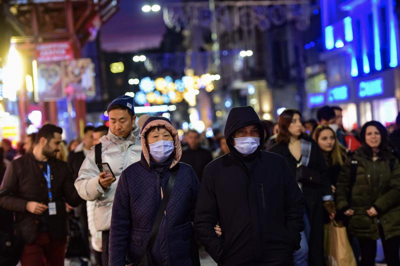with_mask: (148, 130, 176, 161), (233, 126, 261, 155)
without_mask: (108, 115, 131, 137), (43, 138, 62, 160), (288, 116, 303, 138), (318, 133, 336, 151), (365, 129, 382, 148), (188, 132, 199, 147)
